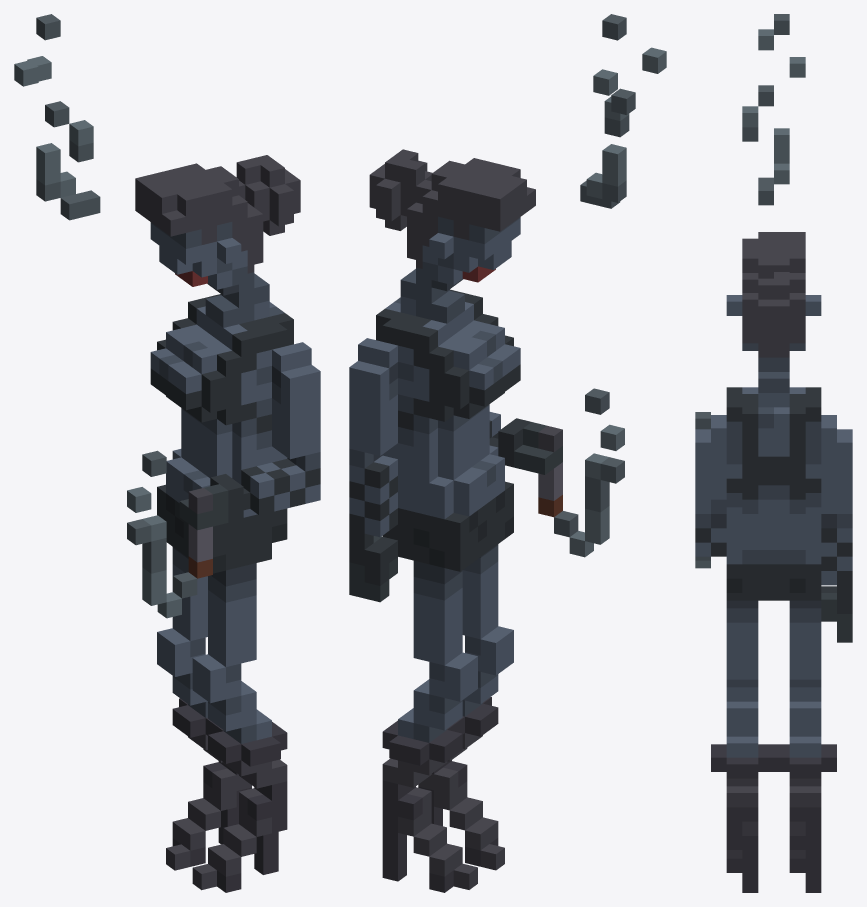
File: Ugly Hoes-0.obj
The picture shows the model from 3 angles, left to right: view 1: azimuth 30°, elevation 25°; view 2: azimuth 150°, elevation 25°; view 3: azimuth 270°, elevation 25°; orthographic projection. The views are drawn at different scales.
Size of the model in its own units: 1.8 by 5.5 by 1.
Materials: 1 (1 with a texture image).
